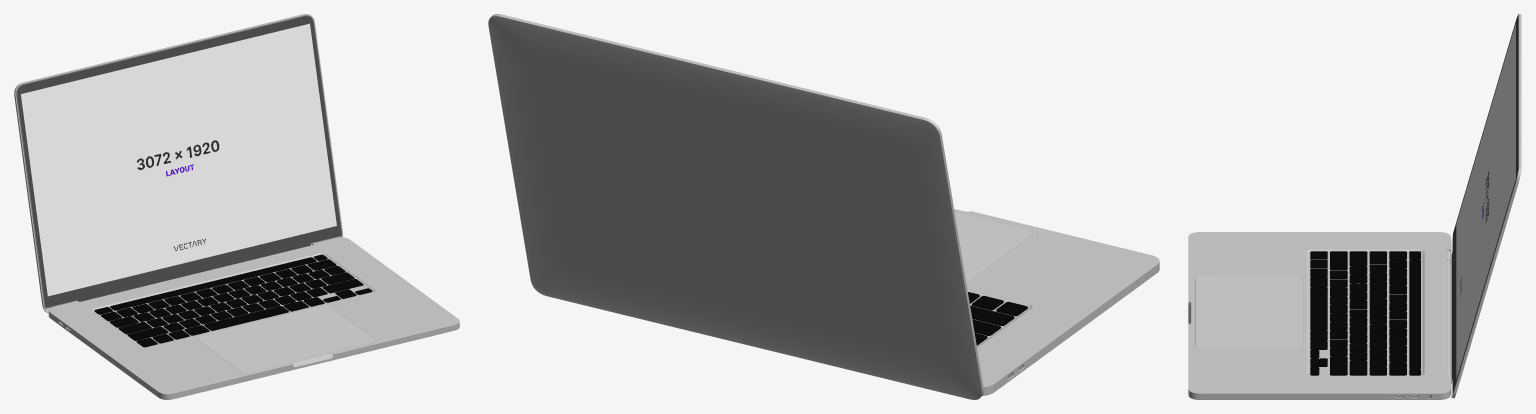
The model's file is Notebook.glb.
3 renders of one model, left to right at view 1: azimuth 30°, elevation 25°; view 2: azimuth 150°, elevation 25°; view 3: azimuth 270°, elevation 25°, orthographic. The views are drawn at different scales.
Visible parts, largest first — view 1: 001__switchable, 004_Body, 002_Keyboard, 008_Black_Inset, 006_Touchpad, 007_Screen_Back, 003_Touch_Panel, 009_Rubber; view 2: 007_Screen_Back, 004_Body, 006_Touchpad, 002_Keyboard; view 3: 004_Body, 002_Keyboard, 001__switchable, 006_Touchpad, 007_Screen_Back, 008_Black_Inset, 003_Touch_Panel, 009_Rubber.
Boxes of the visible parts, x1=… form: 001__switchable: x1=21, y1=23, x2=336, y2=296; 004_Body: x1=48, y1=237, x2=459, y2=399; 002_Keyboard: x1=94, y1=254, x2=372, y2=347; 008_Black_Inset: x1=17, y1=16, x2=341, y2=307; 006_Touchpad: x1=197, y1=306, x2=375, y2=372; 007_Screen_Back: x1=14, y1=14, x2=342, y2=313; 003_Touch_Panel: x1=110, y1=257, x2=316, y2=310; 009_Rubber: x1=16, y1=15, x2=342, y2=308; 007_Screen_Back: x1=488, y1=14, x2=983, y2=399; 004_Body: x1=954, y1=209, x2=1159, y2=395; 006_Touchpad: x1=954, y1=212, x2=1032, y2=281; 002_Keyboard: x1=968, y1=292, x2=1027, y2=345; 004_Body: x1=1188, y1=232, x2=1450, y2=399; 002_Keyboard: x1=1310, y1=251, x2=1420, y2=375; 001__switchable: x1=1456, y1=23, x2=1515, y2=379; 006_Touchpad: x1=1195, y1=277, x2=1302, y2=348; 007_Screen_Back: x1=1447, y1=14, x2=1521, y2=398; 008_Black_Inset: x1=1451, y1=16, x2=1518, y2=391; 003_Touch_Panel: x1=1409, y1=260, x2=1420, y2=369; 009_Rubber: x1=1451, y1=15, x2=1518, y2=393.
Bounding box in the file's own units: 358 × 242 × 312.
Materials: 9 (1 with a texture image).
